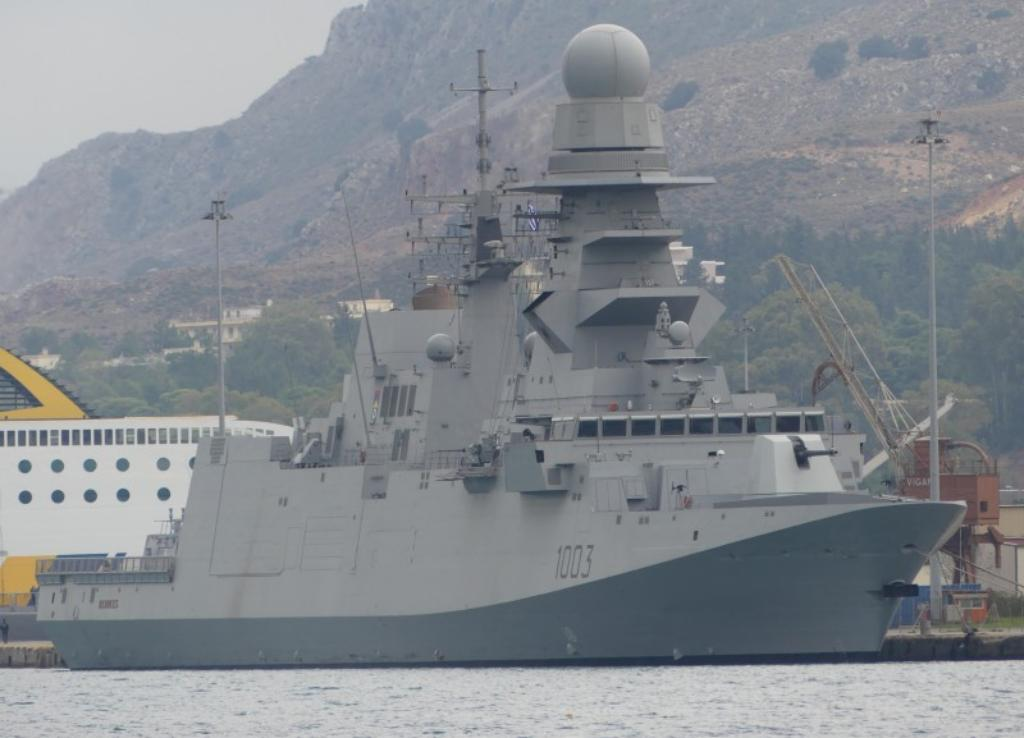Warship: (30, 20, 974, 666)
